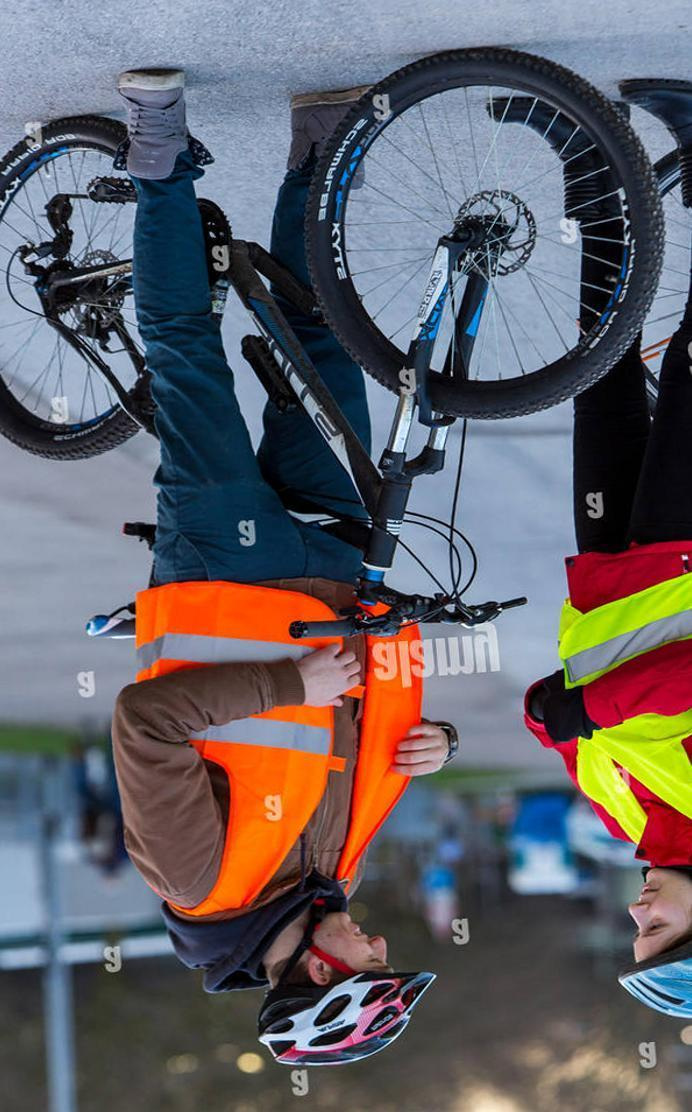Vest: (118, 578, 430, 910), (536, 559, 692, 828)
